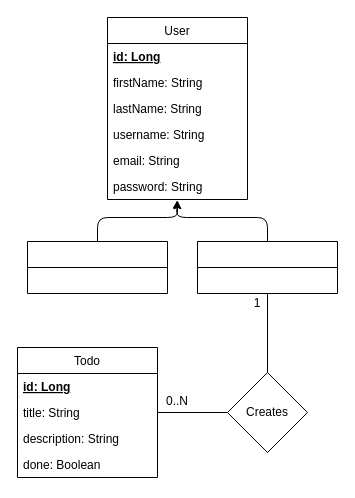
This 355x498 diagram has some shape labels left out. The centre of each missing label's shape, as x and y in pixels:
"Admin" goes at point 97,267.
"Todoer" goes at point 267,267.
